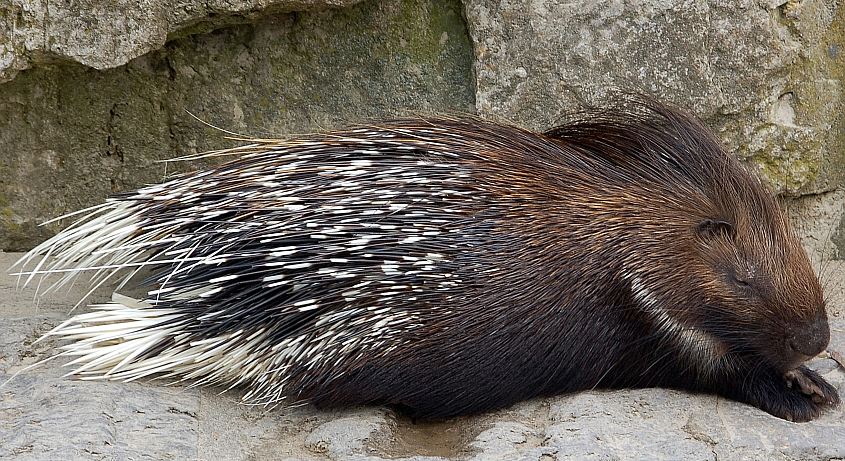porcupine: (7, 77, 845, 427)
